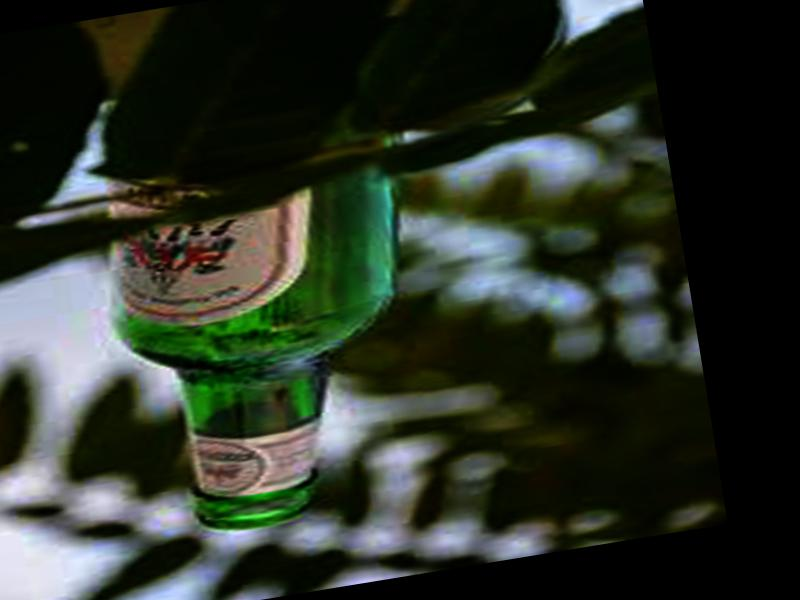Beer: (95, 129, 439, 543)
